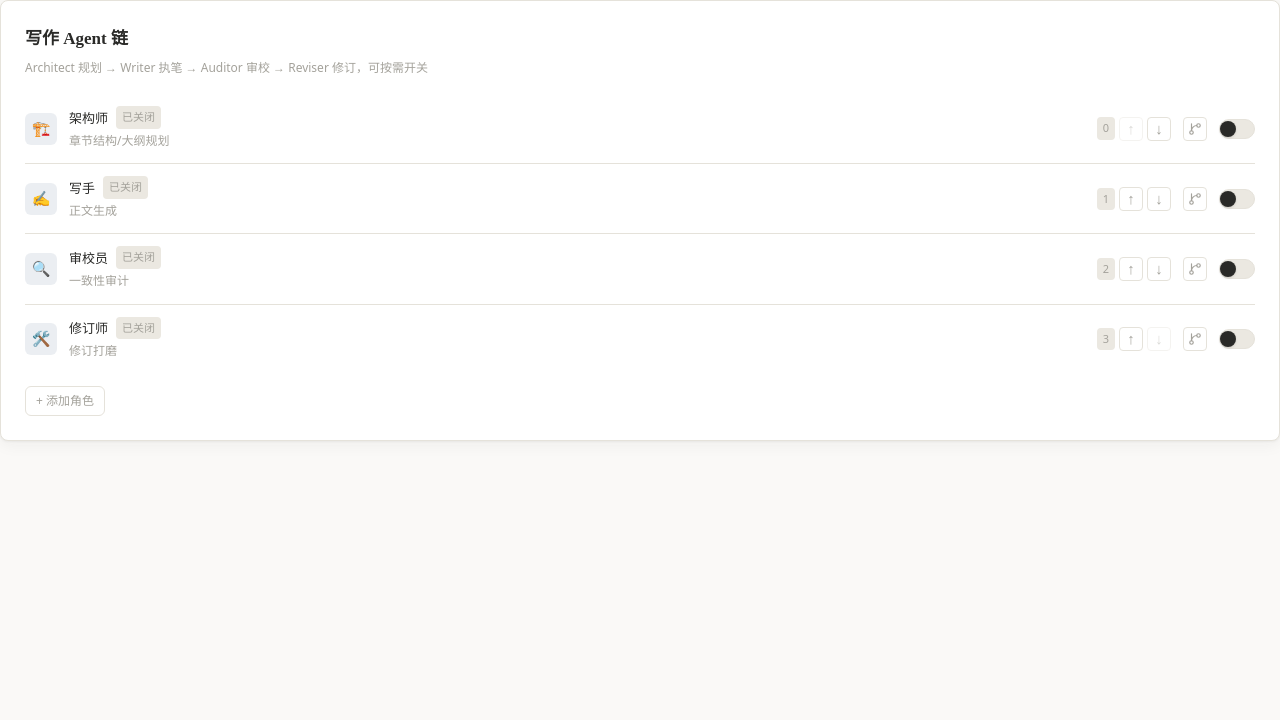
AgentChainCard — F46 #270 依赖入口（spec §5.2） › 点击依赖入口 → 展开 AgentRelationEditor（agent-relation-editor 出现）
Click the button with test id "agent-relation-entry-agent_auditor" at (1195, 269), box [1183,257,1207,281]
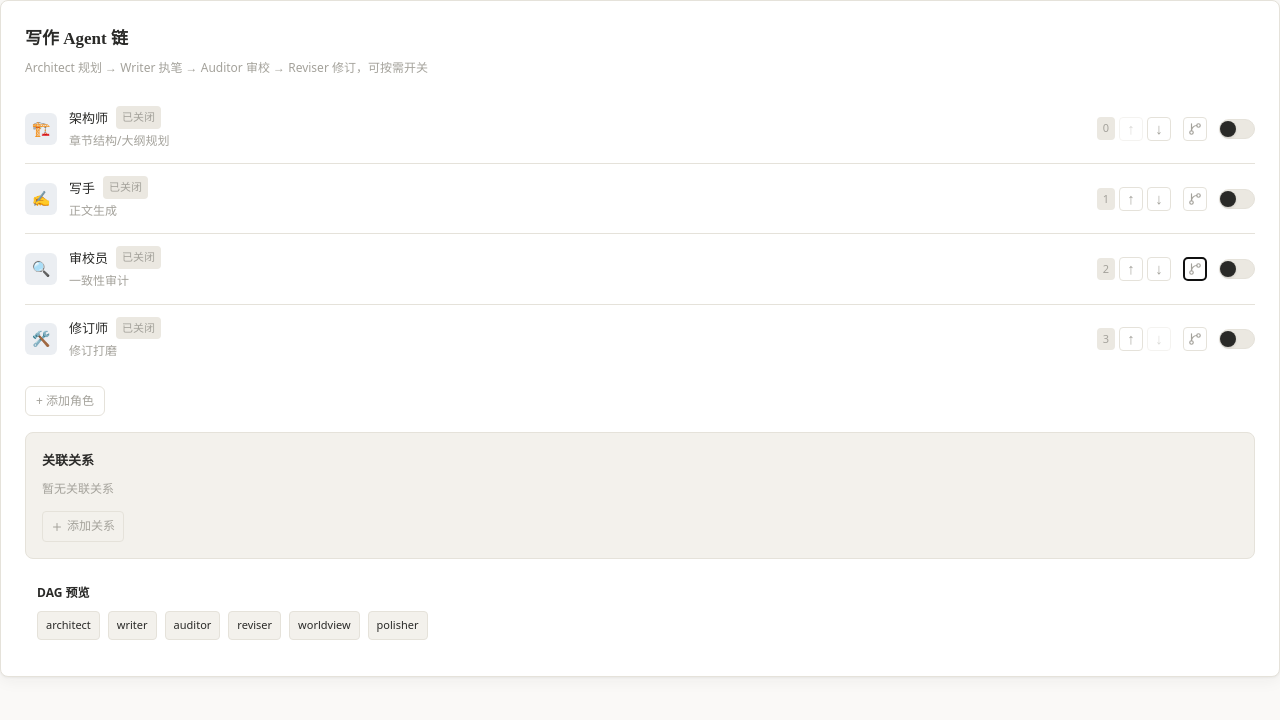
expect the element with test id "agent-relation-editor" is shown: met, box [25,432,1255,559]
